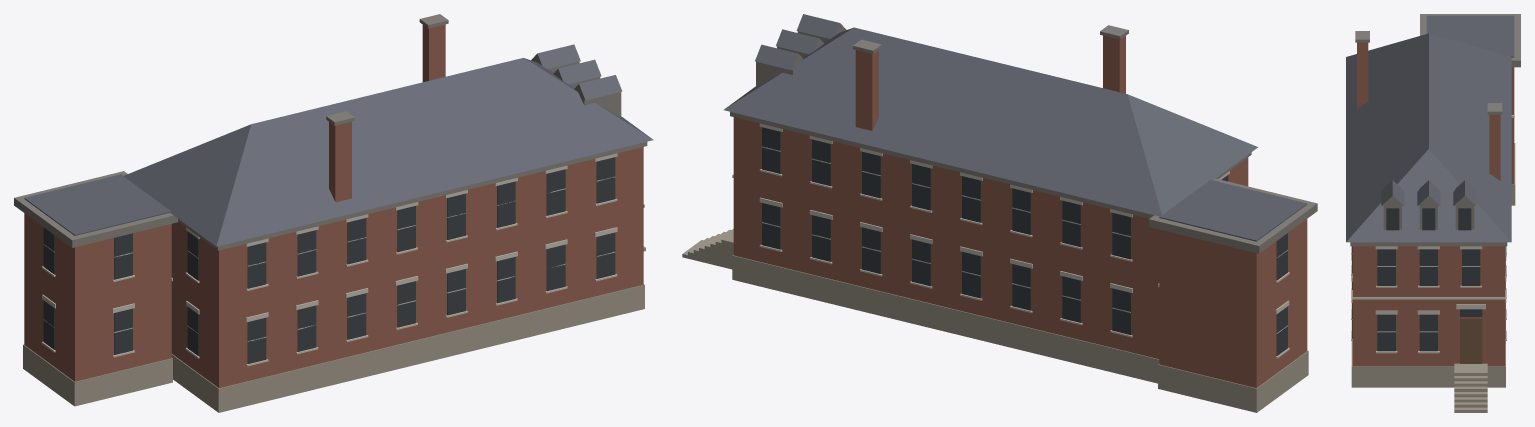
File: house_1832_calumet__draft_1904.glb
3 views of the same model, side by side, from view 1: azimuth 30°, elevation 25°; view 2: azimuth 150°, elevation 25°; view 3: azimuth 270°, elevation 25° (orthographic). The views are drawn at different scales.
Parts seen in each view (by area): view 1: house_1832_calumet__draft_1904; view 2: house_1832_calumet__draft_1904; view 3: house_1832_calumet__draft_1904.
Boxes of the visible parts, bbox=[...] form: house_1832_calumet__draft_1904: bbox=[14, 14, 653, 412]; house_1832_calumet__draft_1904: bbox=[682, 14, 1317, 412]; house_1832_calumet__draft_1904: bbox=[1346, 14, 1520, 412].
Bounding box in the file's own units: 32.15 × 13.47 × 9.45.
